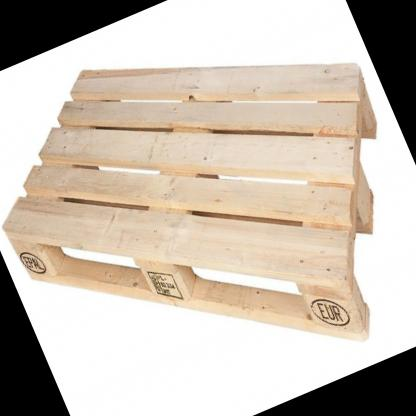BoxFace: (0, 61, 382, 345)
